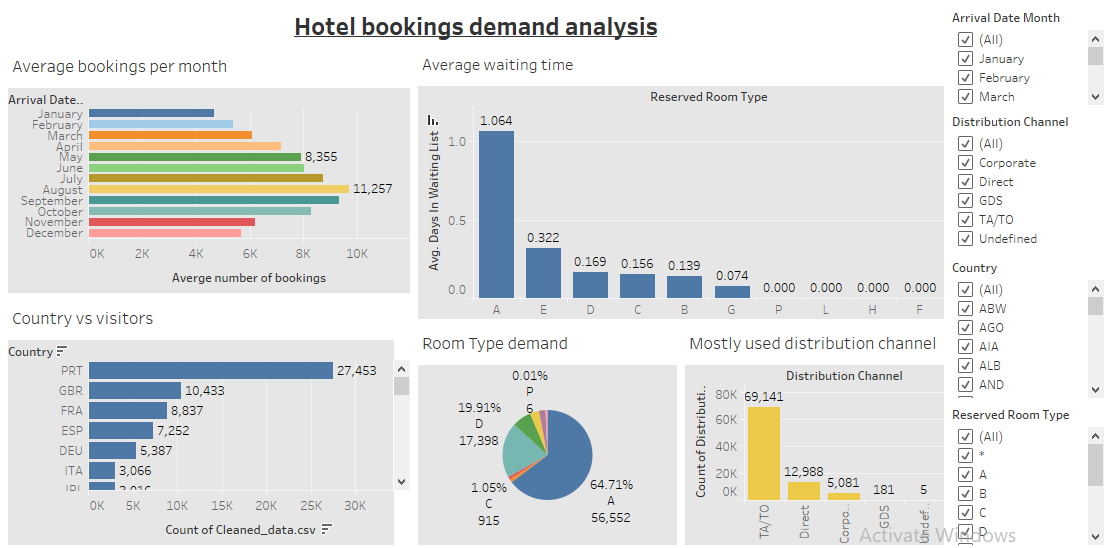

What the dashboard file says about the page in this screenshot:
{"tool":"tableau","page":{"name":"Dashboard 2","canvas":[1000,1000],"units":"permille","ordinal":0},"visuals":[{"type":"title","box":[7.1,14.3,842.9,73.2]},{"type":"filter","title":"Average bookings per month","param":"[federated.1c7iu3c1w9l5gh141cf4m17rsm1a].[none:arrival_date_month:nk]","box":[850,14.3,142.9,185.7]},{"type":"worksheet","title":"Average bookings per month","mark":"Automatic","rows":["arrival_date_month"],"box":[7.1,87.5,366.1,449.1]},{"type":"worksheet","title":"Average number of waiting days","mark":"Automatic","rows":["days_in_waiting_list"],"cols":["reserved_room_type"],"box":[373.2,87.5,476.8,494.6]},{"type":"filter","title":"Mostly used distribution channel","param":"[federated.1c7iu3c1w9l5gh141cf4m17rsm1a].[none:distribution_channel:nk]","box":[850,200,142.9,260.7]},{"type":"filter","title":"country vs number of visitors","param":"[federated.1c7iu3c1w9l5gh141cf4m17rsm1a].[none:country:nk]","box":[850,460.7,142.9,262.5]},{"type":"worksheet","title":"country vs number of visitors","mark":"Automatic","rows":["country"],"cols":["Cleaned_data.csv_17E9DAB9C79B424B9456C77B88617138"],"box":[7.1,536.6,366.1,449.1]},{"type":"worksheet","title":"Room type demand","mark":"Pie","box":[373.2,582.1,238.4,403.6]},{"type":"worksheet","title":"Mostly used distribution channel","mark":"Automatic","rows":["distribution_channel"],"cols":["distribution_channel"],"box":[611.6,582.1,238.4,403.6]},{"type":"filter","title":"Room type demand","param":"[federated.1c7iu3c1w9l5gh141cf4m17rsm1a].[attr:reserved_room_type:nk]","box":[850,723.2,142.9,262.5]}]}

Visuals, with their boxes on the dashboard's canvas, which has no fixed pixel size, in thousandths of its width and height (x1, y1, x2, y2). These are canvas units, not pixel positions in the 1112x548 screenshot, which may show the page scaled, cropped or inside an application window:
title: 7, 14, 850, 88
"Average bookings per month" filter: 850, 14, 993, 200
"Average bookings per month" worksheet: 7, 88, 373, 537
"Average number of waiting days" worksheet: 373, 88, 850, 582
"Mostly used distribution channel" filter: 850, 200, 993, 461
"country vs number of visitors" filter: 850, 461, 993, 723
"country vs number of visitors" worksheet: 7, 537, 373, 986
"Room type demand" worksheet (Pie marks): 373, 582, 612, 986
"Mostly used distribution channel" worksheet: 612, 582, 850, 986
"Room type demand" filter: 850, 723, 993, 986
